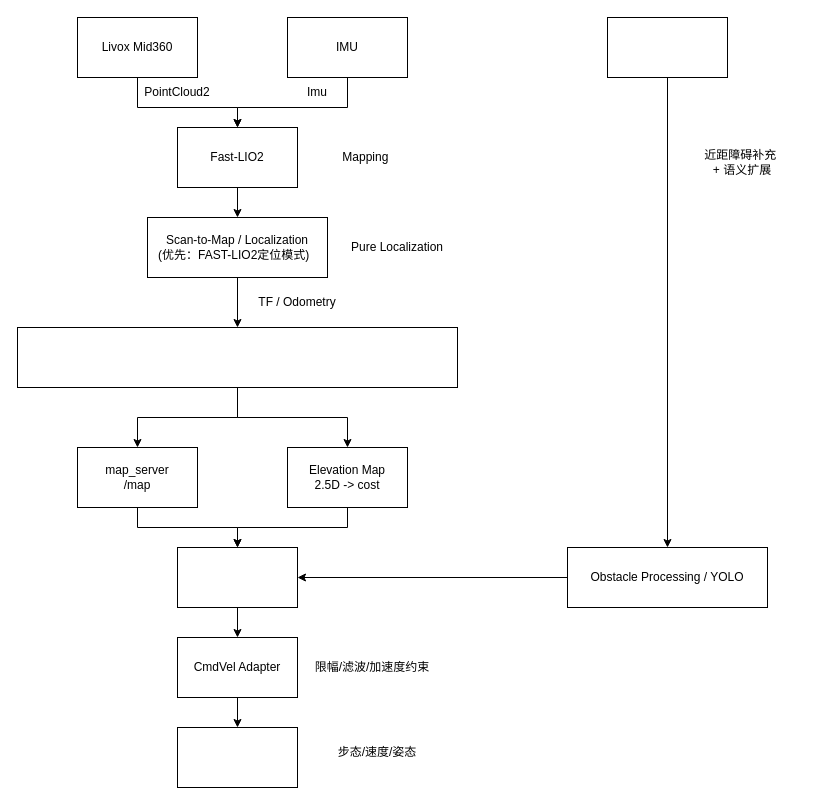
Some shapes in this 835 by 805 pixel diagram are drawn without their labels. The shapes that lost their labels are listed below. From the top down, each one's box as (x1, y1, x2, y2) in pixels, then its label:
(606, 16, 728, 78): RGB / RGBD
(16, 326, 458, 388): 地图体系 3D点云地图(PCD) 2.5D高程/可通行性图 2D占据栅格地图 (定位/重定位) (坡度/台阶/粗糙) (Nav2全局规划)
(176, 546, 298, 608): Nav2 Global/Local nav
(176, 726, 298, 788): Go2 底层控制
